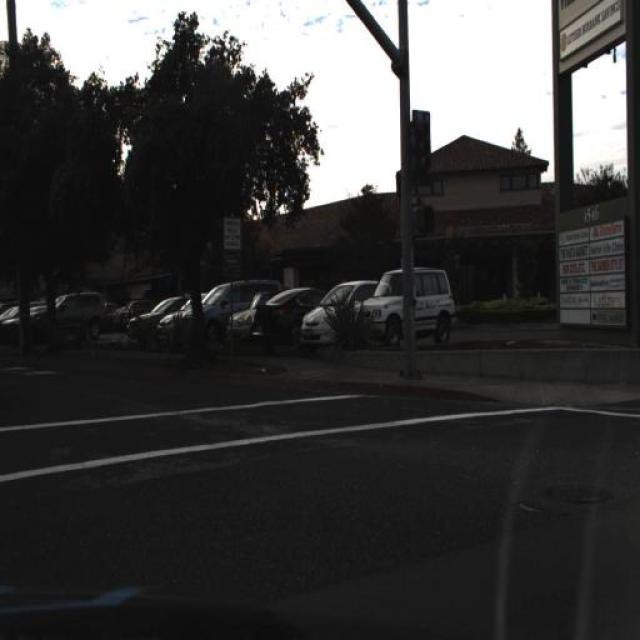car: (362, 267, 458, 341), (302, 278, 378, 342), (186, 281, 252, 345), (254, 281, 324, 337), (246, 287, 320, 337), (49, 293, 110, 348), (128, 290, 190, 340), (229, 286, 272, 346), (158, 292, 204, 337), (15, 296, 47, 349), (2, 299, 28, 335)
